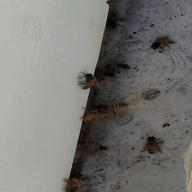Bee: (136, 131, 169, 157), (62, 168, 96, 192), (76, 70, 105, 91)
